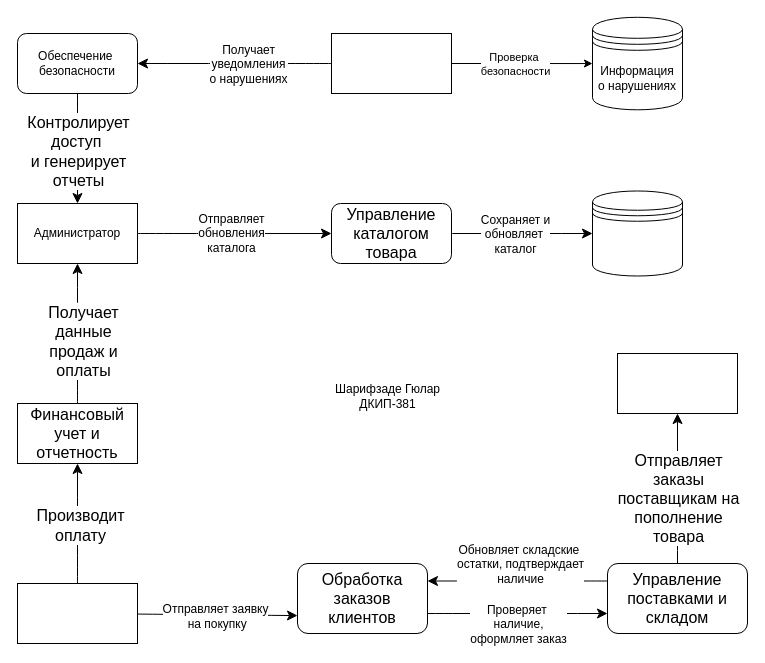
Some shapes in this 765 by 663 pixel diagram are drawn without their labels. Here are the shapes that lost their labels. From the top down, the centre of each, then its label:
[391,63]: Служба безопасности
[637,233]: Каталог товаров
[677,383]: Поставщик
[77,613]: Клиент
